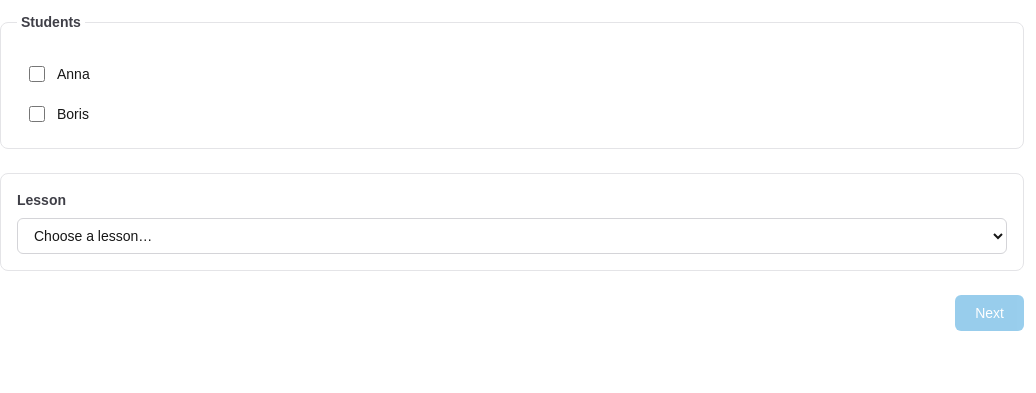
Test: WizardWho › enables Next only once both a student and a lesson are chosen
The width and height of the screenshot is (1036, 393).
Expected: the button "Next" is disabled, [955, 295, 1024, 331]
Click the checkbox labelled "Anna" at (37, 74), box [29, 66, 45, 82]
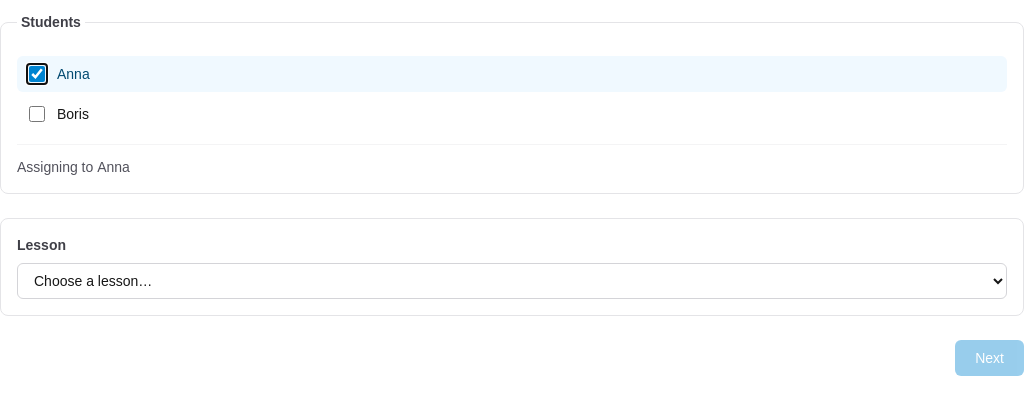
Expected: the button "Next" is disabled, [955, 340, 1024, 376]
Select "Lesson 5" in the dropdown labelled "Lesson" at (512, 281), box [17, 263, 1007, 299]
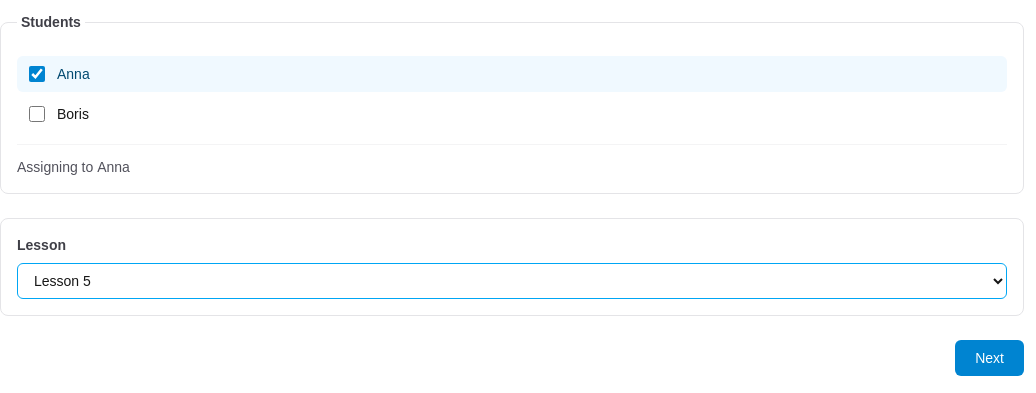
Result: the button "Next" is enabled at [955, 340, 1024, 376]
